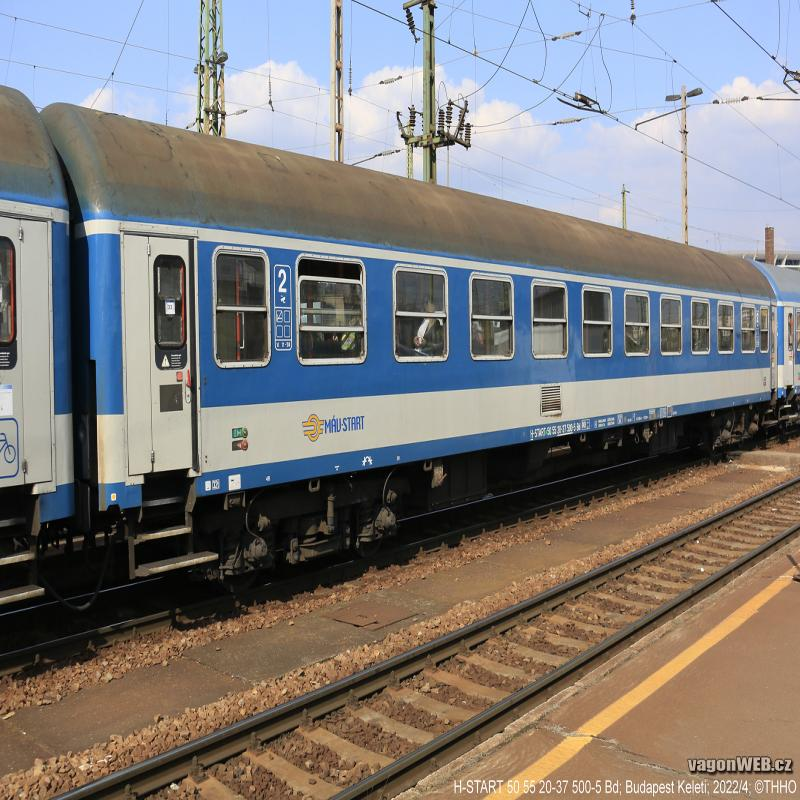train: (45, 102, 780, 634)
